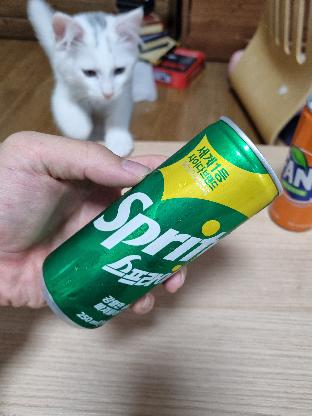Can: (43, 116, 276, 326)
